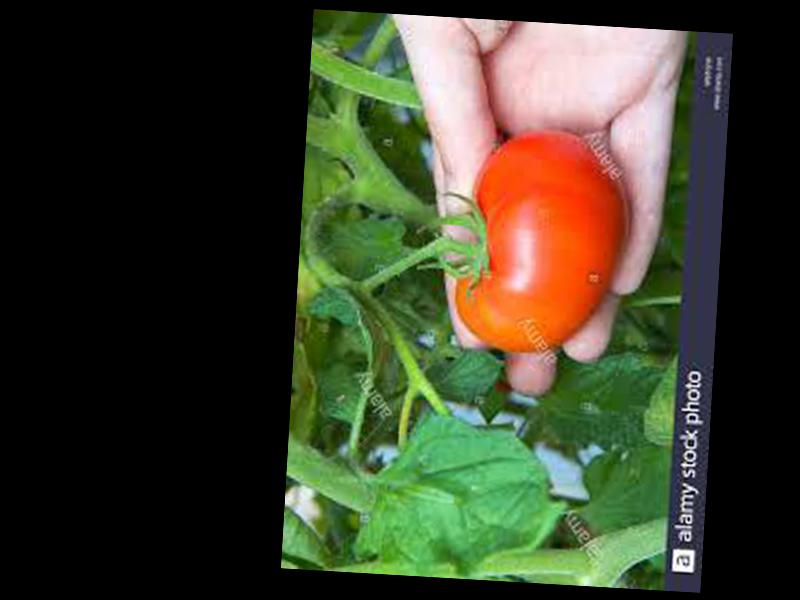Tomato: (452, 123, 628, 357)
